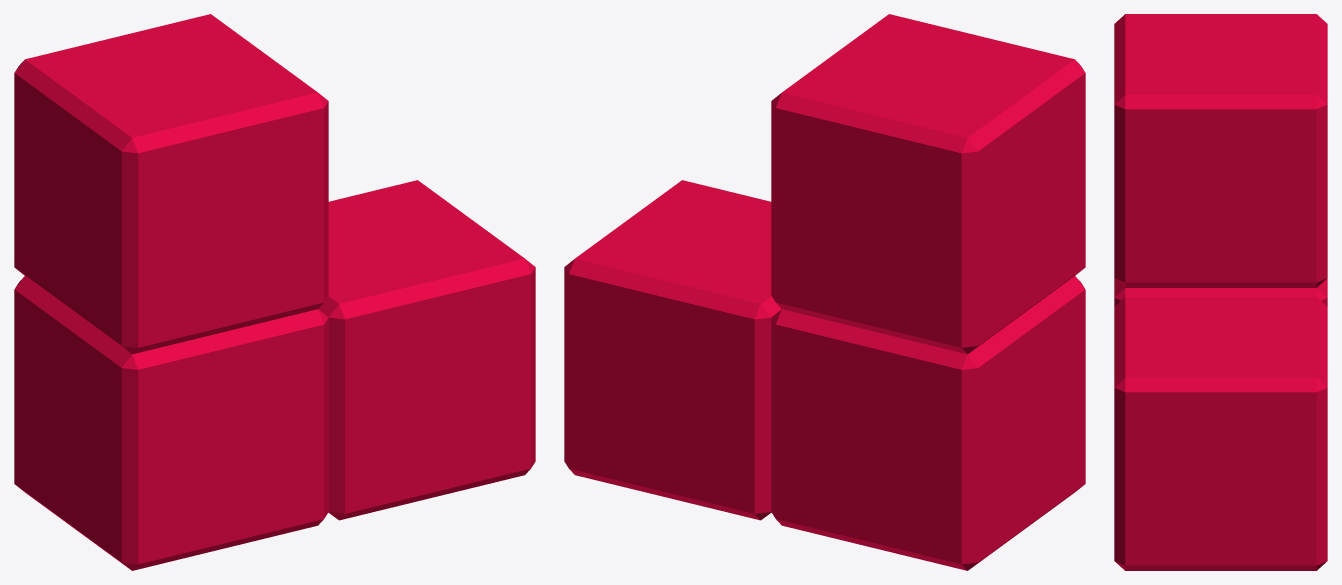
The model's file is TetrisL.glb.
3 renders of one model, left to right at view 1: azimuth 30°, elevation 25°; view 2: azimuth 150°, elevation 25°; view 3: azimuth 270°, elevation 25°, orthographic. The views are drawn at different scales.
Parts seen in each view (by area): view 1: TetrisL; view 2: TetrisL; view 3: TetrisL.
Boxes of the visible parts, x1,y1,x2,y2 form: TetrisL: (14,14,535,570); TetrisL: (564,14,1085,570); TetrisL: (1114,14,1327,570).
Size of the model in its own units: 2 by 2 by 1.
